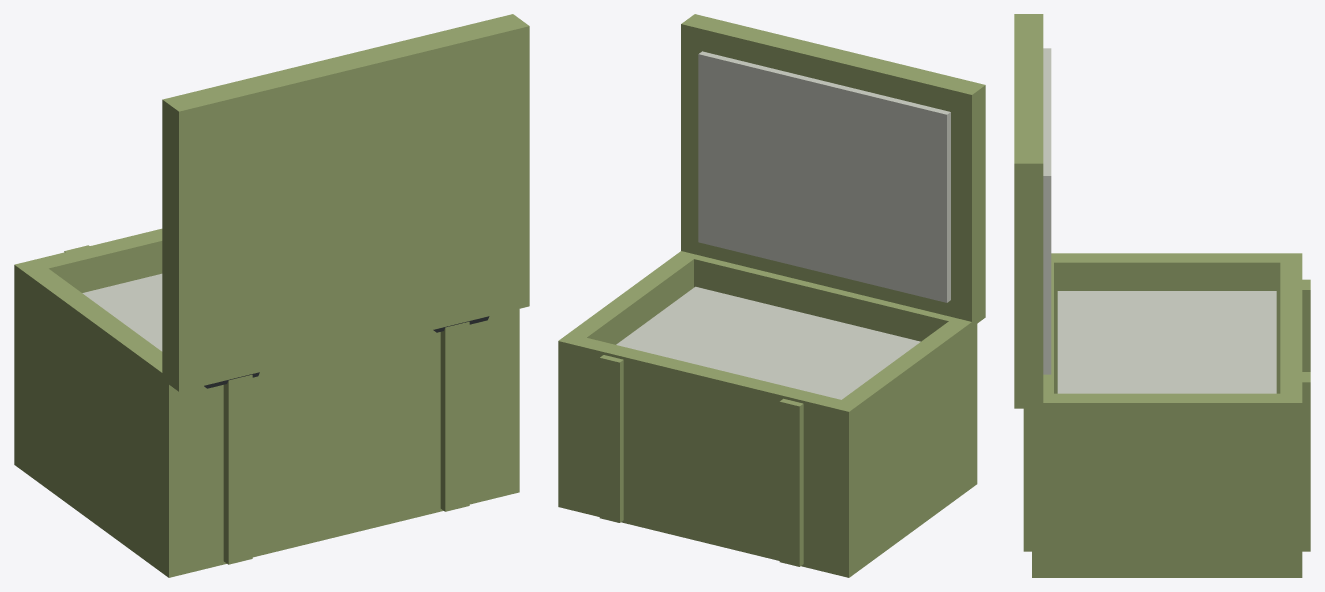
File: AttachmentCrate.fbx
3 views of the same model, side by side, from view 1: azimuth 30°, elevation 25°; view 2: azimuth 150°, elevation 25°; view 3: azimuth 270°, elevation 25° (orthographic). The views are drawn at different scales.
Visible parts, largest first — view 1: OpenLid, CrateEnd.001, CrateSide.001, CrateBase, CrateRib.002, CrateRib.003, CrateEnd, Lining, CrateSide; view 2: LidLining, CrateEnd, OpenLid, CrateSide.001, Lining, CrateBase, CrateEnd.001, CrateSide, CrateRib, CrateRib.001; view 3: CrateSide, Lining, OpenLid, CrateSide.001, CrateBase, CrateEnd, LidLining, CrateRib, CrateRib.002, CrateRib.001, CrateEnd.001.
Part boxes in pixels (x1,y1,x2,y2): OpenLid: [162, 14, 529, 391]; CrateEnd.001: [178, 311, 509, 534]; CrateSide.001: [14, 262, 190, 577]; CrateBase: [14, 426, 519, 577]; CrateRib.002: [440, 321, 469, 511]; CrateRib.003: [223, 374, 252, 564]; CrateEnd: [24, 228, 162, 292]; Lining: [82, 273, 162, 351]; CrateSide: [498, 309, 519, 497]; LidLining: [698, 51, 950, 302]; CrateEnd: [566, 337, 850, 575]; OpenLid: [681, 14, 985, 323]; CrateSide.001: [831, 318, 977, 577]; Lining: [616, 286, 920, 399]; CrateBase: [558, 453, 977, 577]; CrateEnd.001: [685, 253, 963, 341]; CrateSide: [558, 251, 695, 506]; CrateRib: [599, 355, 623, 522]; CrateRib.001: [779, 398, 803, 566]; CrateSide: [1032, 393, 1302, 577]; Lining: [1057, 291, 1276, 393]; OpenLid: [1014, 14, 1043, 408]; CrateSide.001: [1051, 253, 1302, 393]; CrateBase: [1032, 543, 1302, 577]; CrateEnd: [1280, 257, 1302, 398]; LidLining: [1043, 48, 1051, 374]; CrateRib: [1302, 372, 1310, 551]; CrateRib.002: [1023, 408, 1031, 551]; CrateRib.001: [1302, 279, 1310, 371]; CrateEnd.001: [1043, 257, 1053, 398].
Size of the model in its own units: 0.55 by 0.71 by 0.4605.
